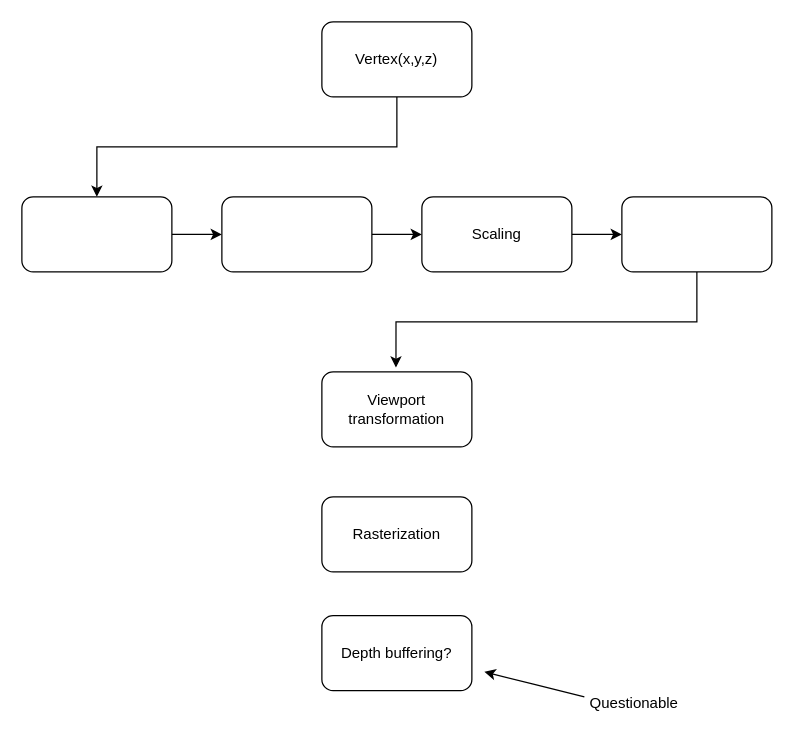
This 794x744 diagram has some shape labels left out. The shapes that lost their labels are listed below. From the top down, each one's centre as x and y in pixels, then its label:
At [96,234]: "Translation".
At [296,234]: "Rotation".
At [696,234]: "Projection".
